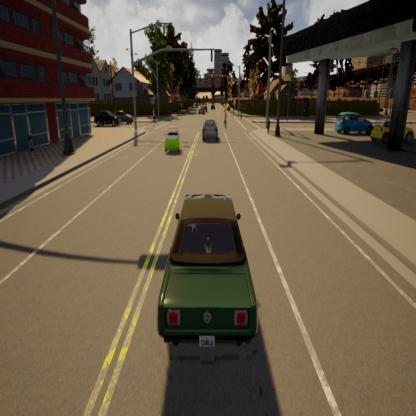Cars: (160, 189, 266, 370), (368, 115, 416, 148), (160, 118, 184, 159), (334, 109, 375, 132), (200, 114, 220, 141), (93, 112, 121, 129), (111, 105, 138, 121), (199, 103, 206, 112)
Pedestrian: (221, 106, 232, 132), (152, 109, 160, 127), (238, 102, 245, 118)
